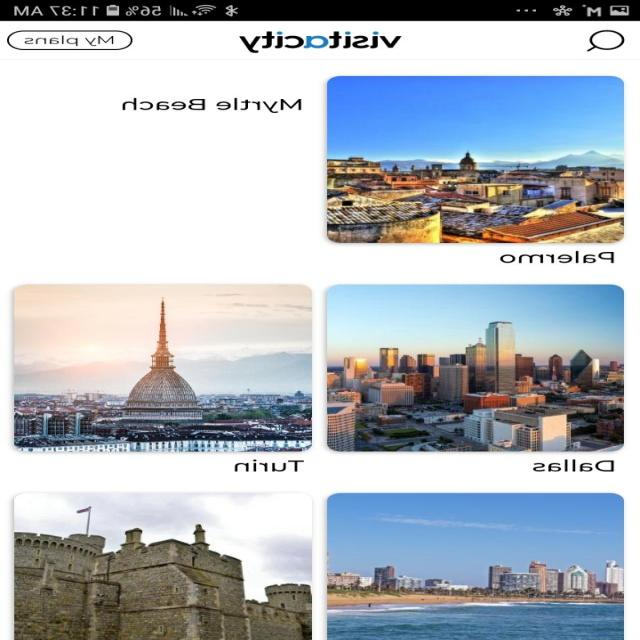Icon: (586, 30, 626, 52)
Image: (14, 284, 313, 452), (327, 284, 624, 452), (327, 76, 625, 242), (14, 492, 313, 640), (327, 492, 624, 640), (239, 32, 403, 54)
Text: (122, 97, 302, 113), (500, 251, 614, 264), (532, 459, 614, 472), (235, 458, 305, 472)
TextButton: (7, 30, 133, 50)
